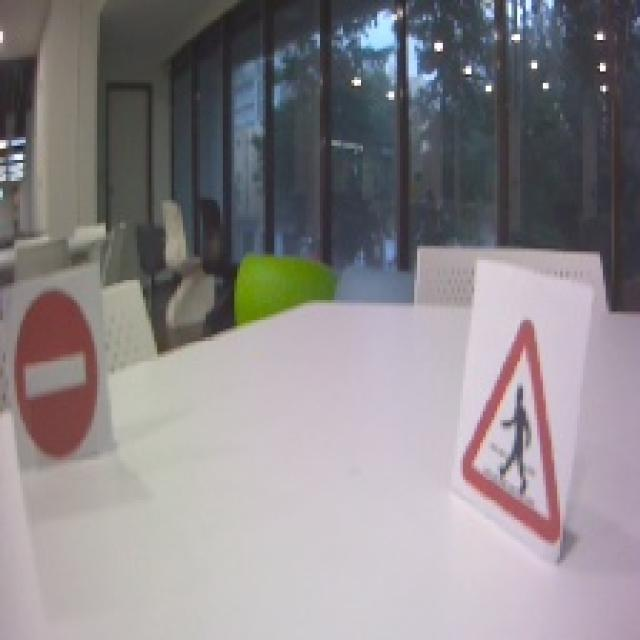DoNotEnterSign: (11, 290, 100, 462)
